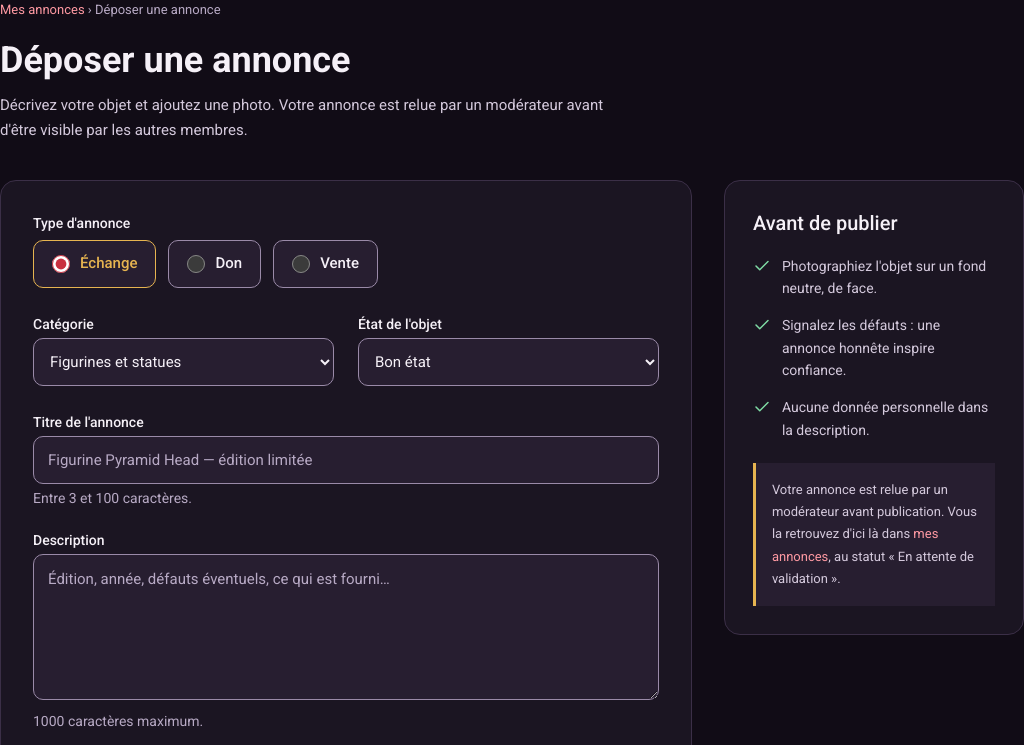
ListingForm › depot › refuse une vente au prix « 0 » sans interroger l API
Click the radio button labelled "Vente" at [301, 264], box [292,254,310,272]
(page scrolled)
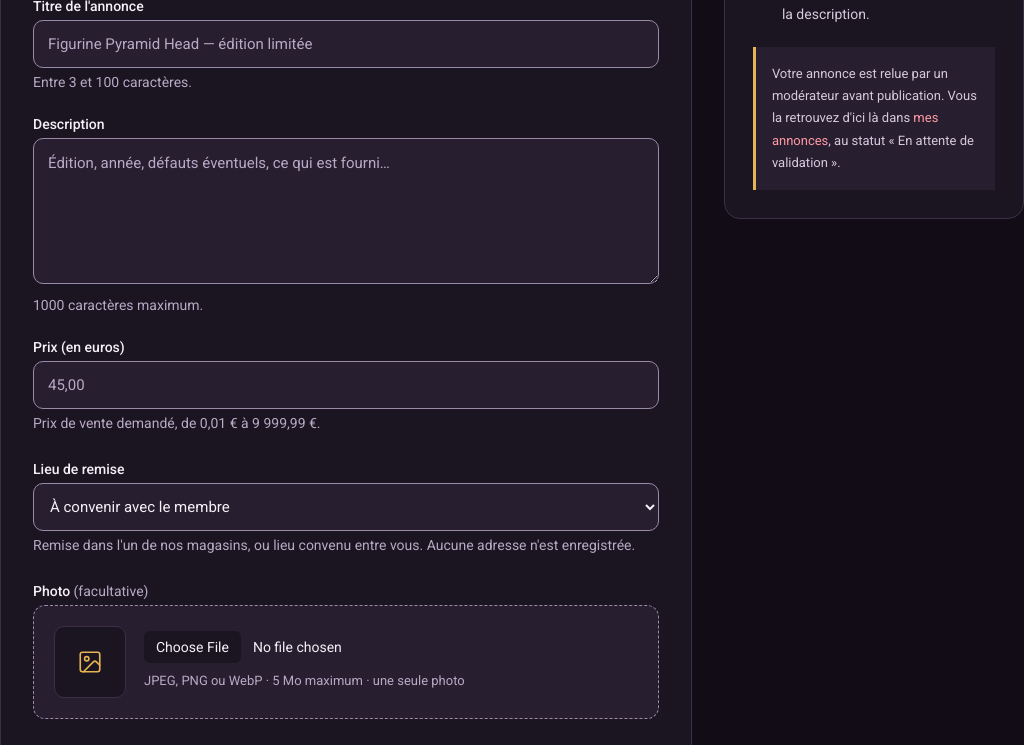
Type "0" into the field labelled "Prix (en euros)" at [346, 384], box [33,360,659,408]
(page scrolled)
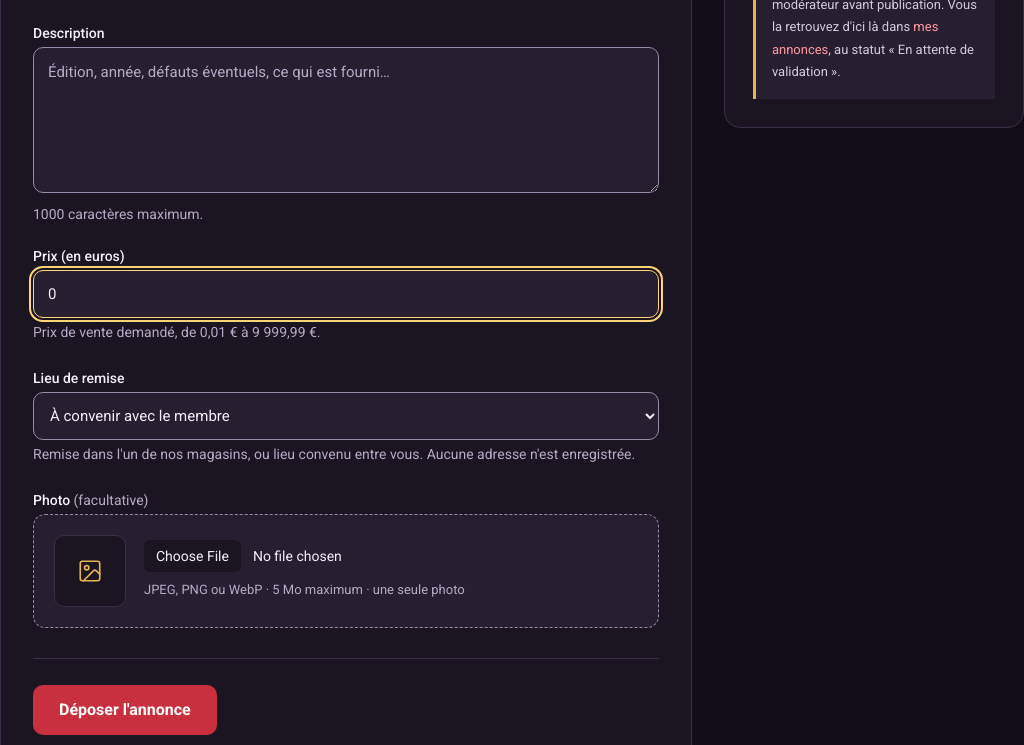
Click the button "Déposer l'annonce" at [125, 710], box [33,684,217,734]
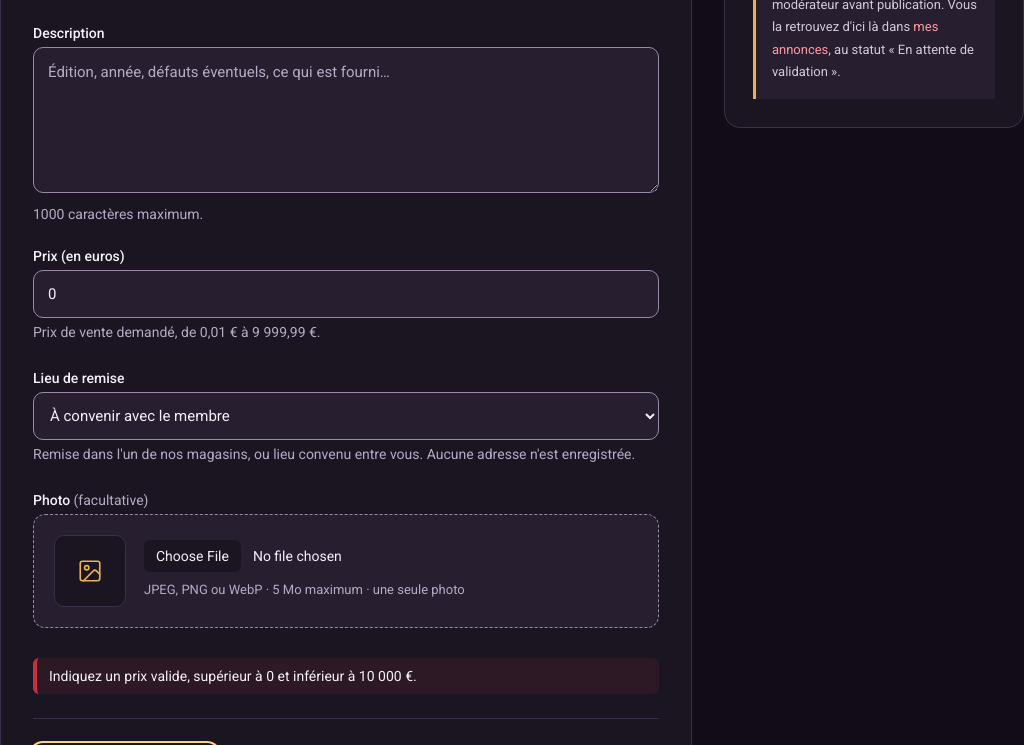
Check: the message shows "Indiquez un prix valide", box [49,668,417,684]
